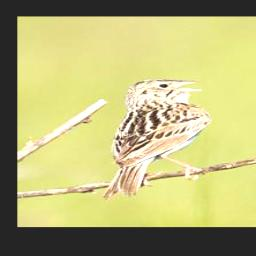Sparrow: (100, 77, 213, 201)
